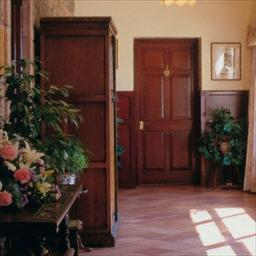Armario: (53, 18, 115, 239)
Matera: (199, 109, 251, 198)
Puerta: (134, 38, 203, 183)
